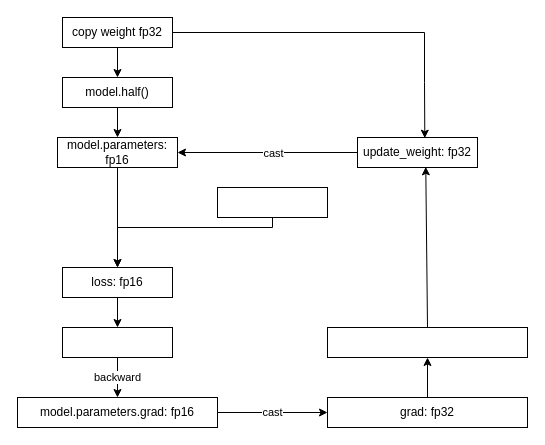
Image size: 545x445. Some labels were removed from this diagram. Each missing label, with the centre of its shape:
data.half(): (x=272, y=202)
scaled_loss: fp16: (x=117, y=342)
unscaled_grad: fp32: (x=427, y=342)
